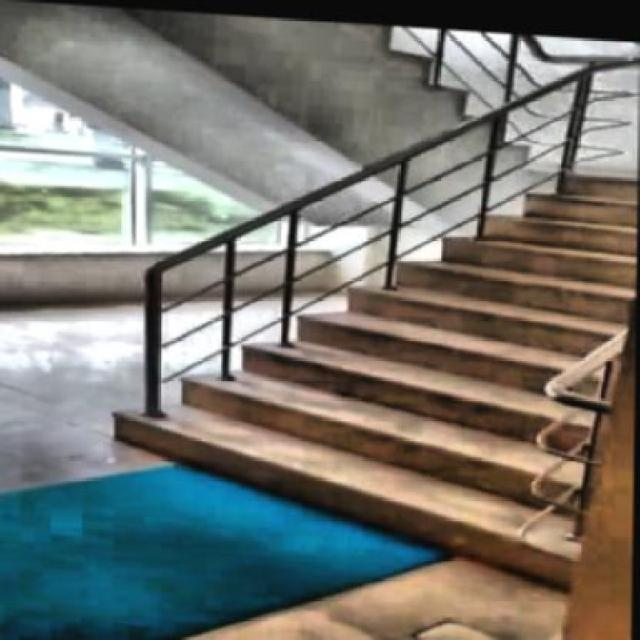stair: (111, 120, 637, 578)
